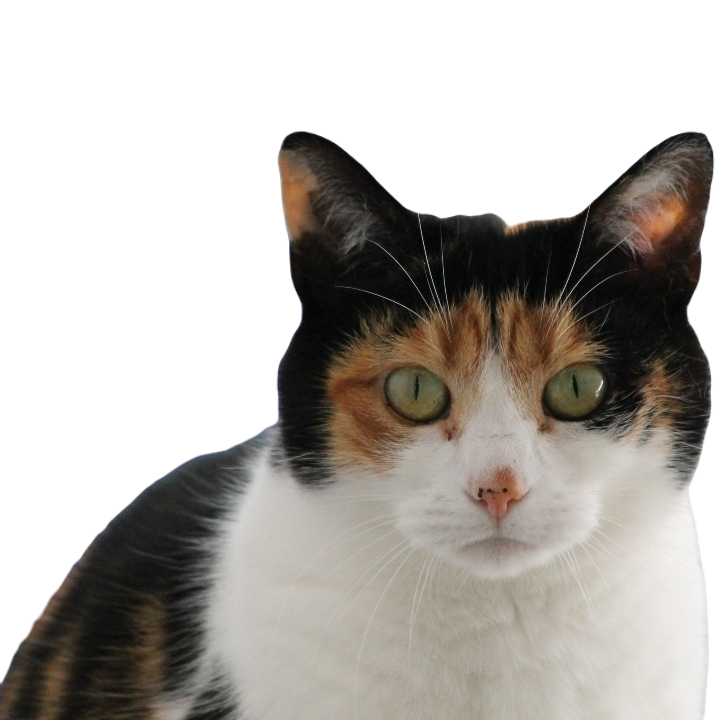Cat: (2, 128, 719, 716)
